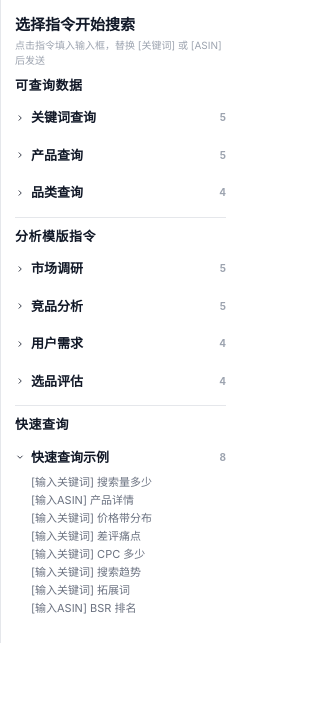
Test: DataReferencePanel › expands section and shows command items on click
The image size is (320, 720).
Expected: the text "月搜索量" is not shown
Click the button "关键词查询 5" at [120, 118], box [15,104,226,132]
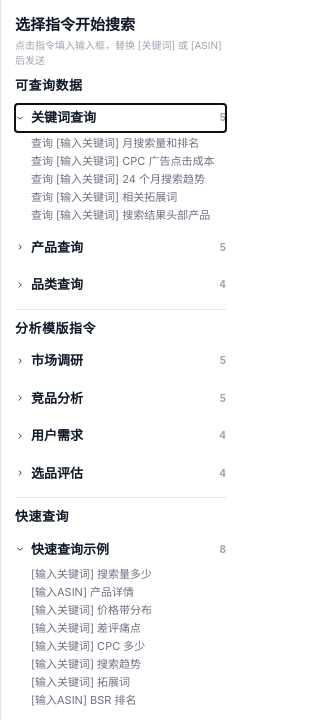
Result: the text "查询 [输入关键词] 月搜索量和排名" is shown at [31,134,226,152]
